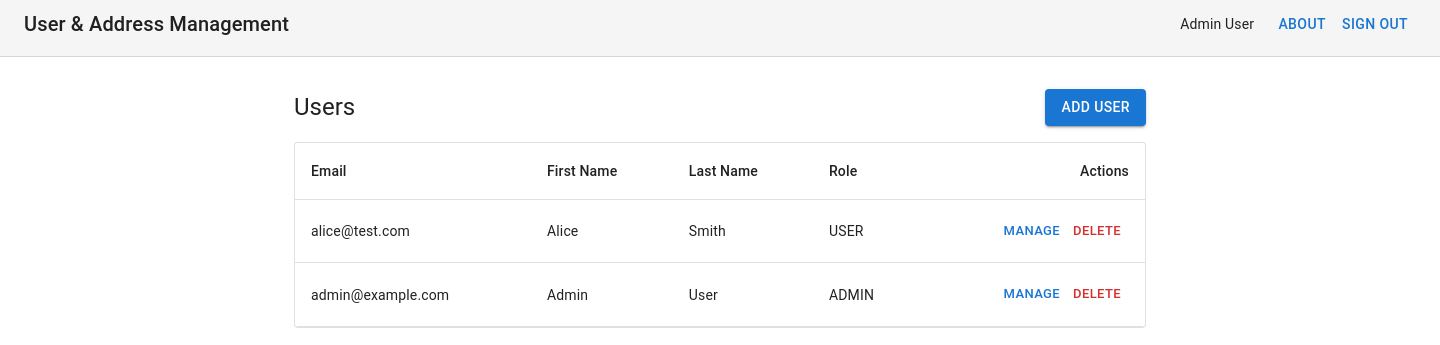
Test case: UserListPage › restores the row content on mouse leave
The width and height of the screenshot is (1440, 345).
Check: the text "alice@test.com" is shown, box [295, 199, 531, 263]
Hover over the row "alice@test.com Alice Smith USER Manage Delete" at (720, 231), box [295, 199, 1145, 263]
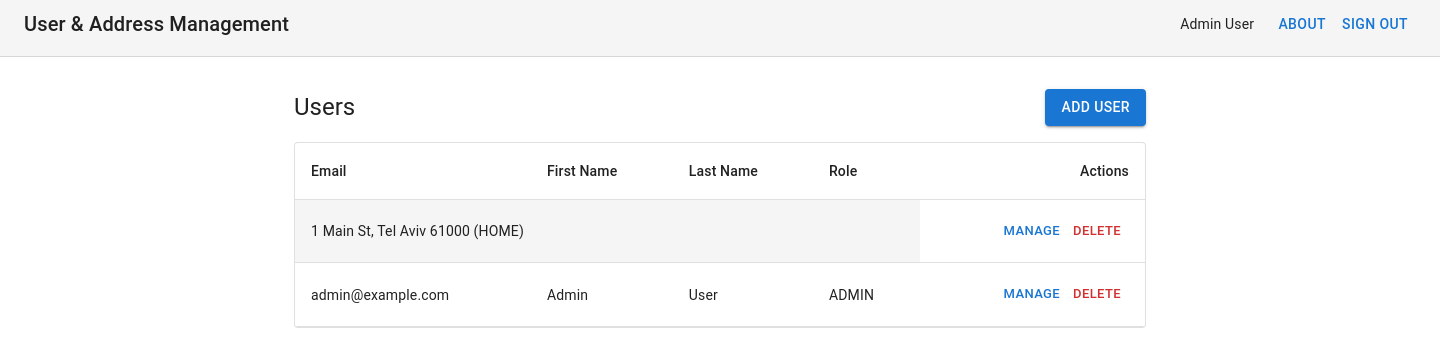
Check: the text "1 Main St, Tel Aviv 61000 (HOME)" is shown, box [311, 223, 524, 239]
Move the pointer off the row "1 Main St, Tel Aviv 61000 (HOME) Manage Delete", box [295, 199, 1145, 263]
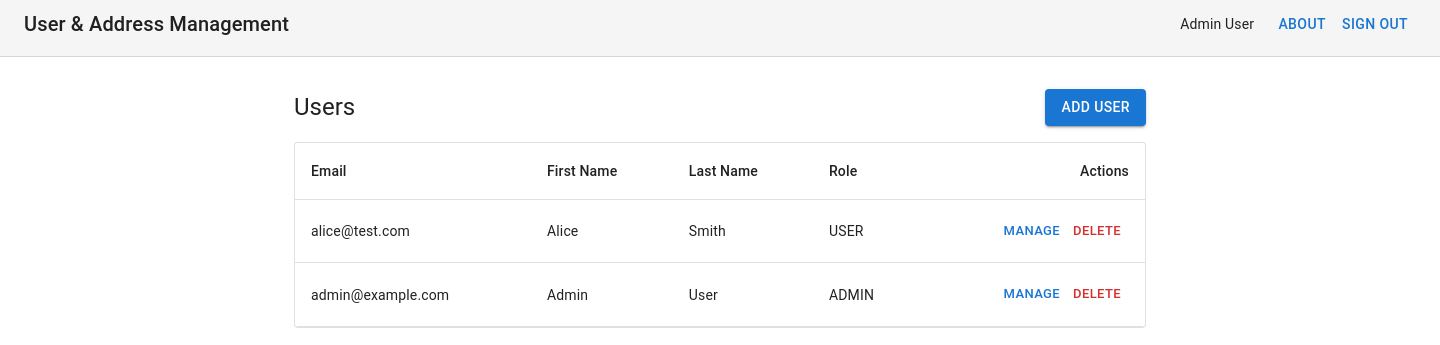
Check: the text "alice@test.com" is shown, box [295, 199, 531, 263]
Check: the text "1 Main St" is gone
